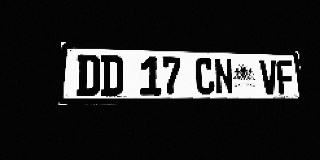1: (140, 56, 161, 95)
7: (161, 57, 182, 95)
C: (195, 58, 215, 95)
D: (76, 54, 100, 96), (100, 55, 123, 96)
F: (276, 60, 295, 94)
N: (214, 58, 234, 95)
V: (259, 59, 279, 94)
